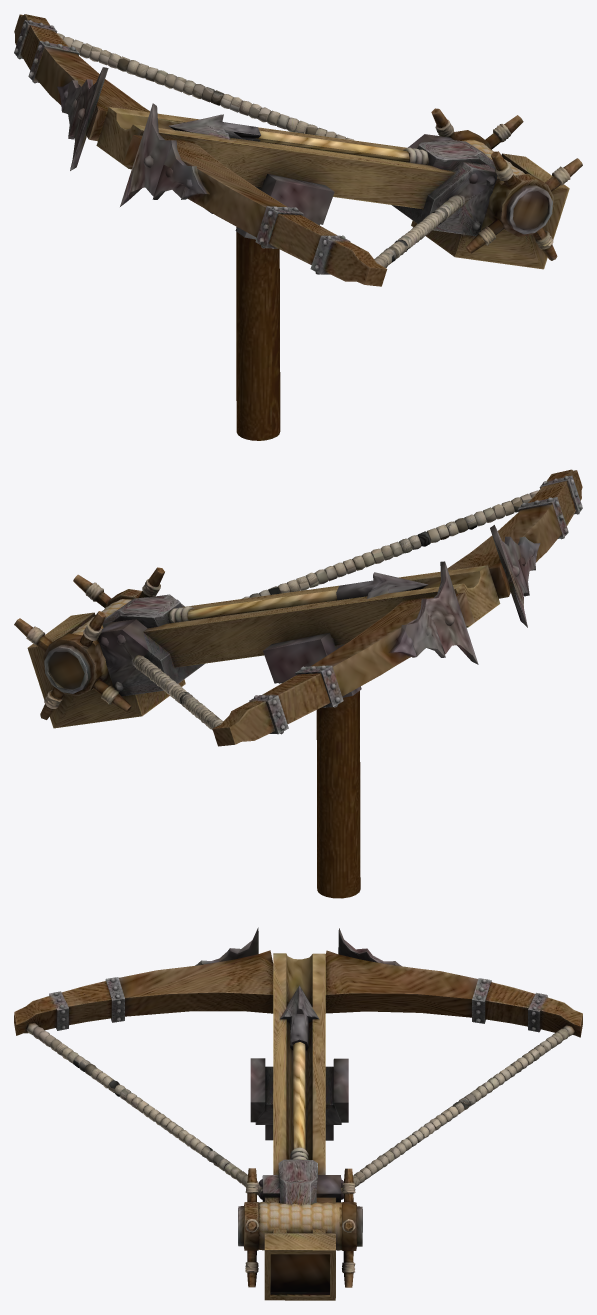
File: MZ4250 - Ballista.glb
3 renders of one model, top to bottom at view 1: azimuth 30°, elevation 25°; view 2: azimuth 150°, elevation 25°; view 3: azimuth 270°, elevation 25°, orthographic. The views are drawn at different scales.
Visible parts, largest first — view 1: Ballista.001; view 2: Ballista.001; view 3: Ballista.001.
Part boxes in pixels (left/top/right/bottom): Ballista.001: left=14, top=14, right=582, bottom=440; Ballista.001: left=14, top=469, right=582, bottom=898; Ballista.001: left=14, top=927, right=582, bottom=1300.
Bounding box in the file's own units: 25.83 × 20.4 × 34.08.
1 material, 1 textured.
